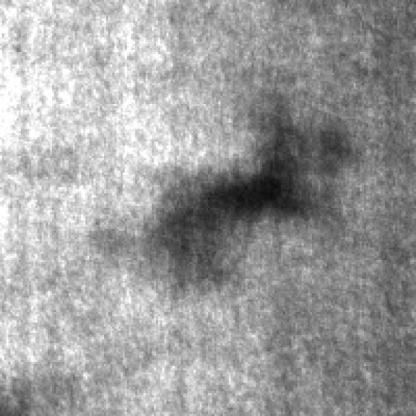patches: (160, 154, 310, 270)
